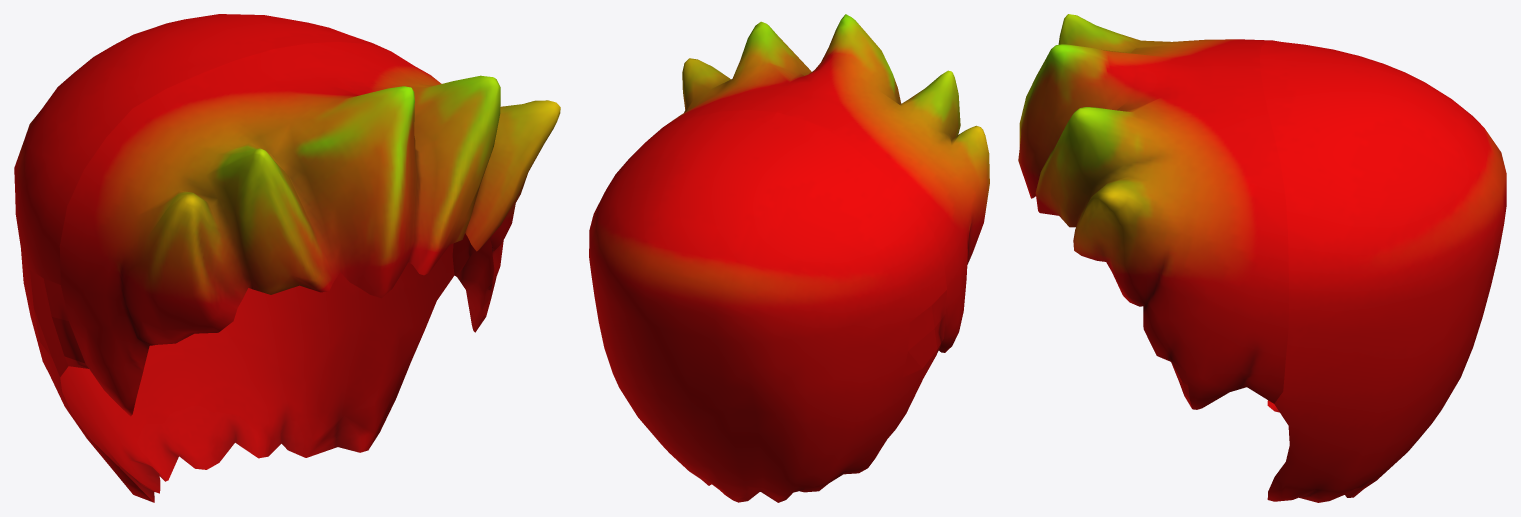
Rendered from HairBack_ShortSpikes.obj.
The picture shows the model from 3 angles, left to right: view 1: azimuth 30°, elevation 25°; view 2: azimuth 150°, elevation 25°; view 3: azimuth 270°, elevation 25°; orthographic projection. The views are drawn at different scales.
Visible parts, largest first — view 1: HairBack_ShortSpikes_0; view 2: HairBack_ShortSpikes_0; view 3: HairBack_ShortSpikes_0.
Part boxes in pixels (x1,y1,x2,y2): HairBack_ShortSpikes_0: [14, 14, 560, 502]; HairBack_ShortSpikes_0: [589, 14, 989, 502]; HairBack_ShortSpikes_0: [1018, 14, 1506, 502].
Size of the model in its own units: 0.2029 by 0.2315 by 0.2273.
1 material, 1 textured.
